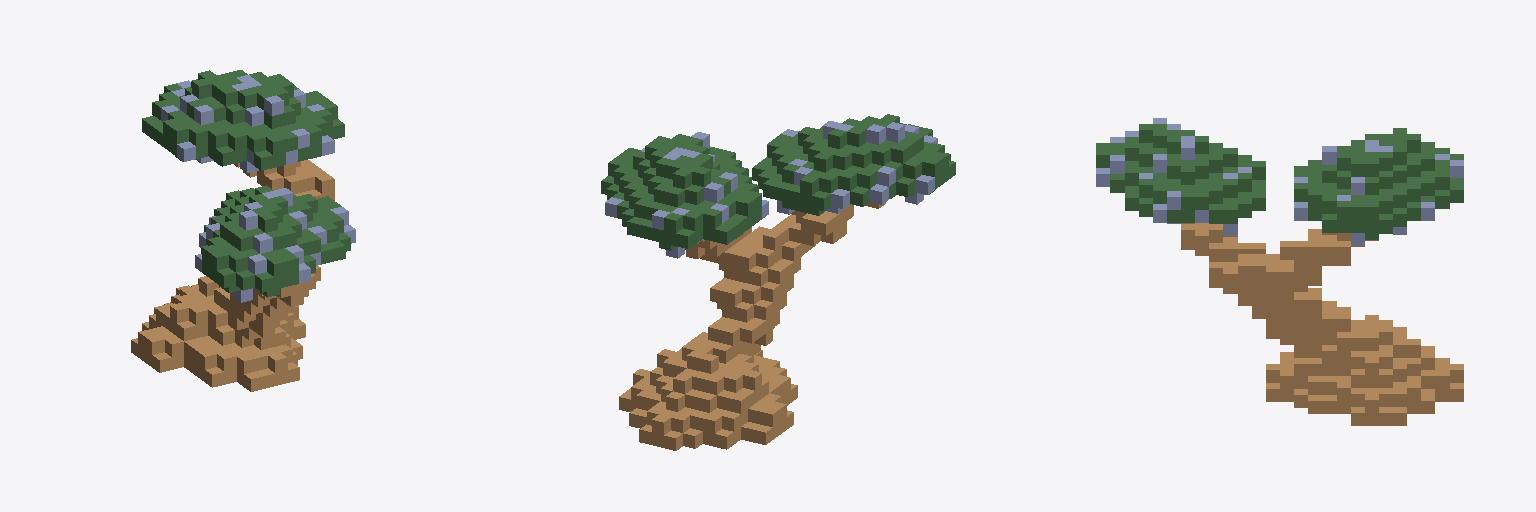
3 renders of one model, left to right at view 1: azimuth 30°, elevation 25°; view 2: azimuth 150°, elevation 25°; view 3: azimuth 270°, elevation 25°, orthographic.
Visible parts, largest first — view 1: Model; view 2: Model; view 3: Model.
Boxes of the visible parts, box(x1,y1,x2,y2) form: Model: box(131, 70, 355, 391); Model: box(601, 114, 955, 450); Model: box(1096, 118, 1463, 425).
Bounding box in the file's own units: 9 × 10 × 13.
Materials: 1 (1 with a texture image).